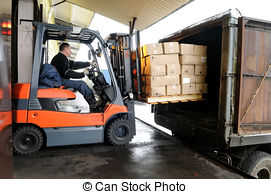unit_load: (130, 43, 220, 109)
